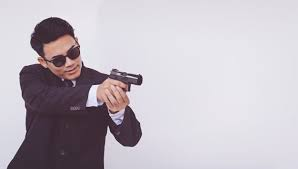gun: (107, 68, 147, 93)
